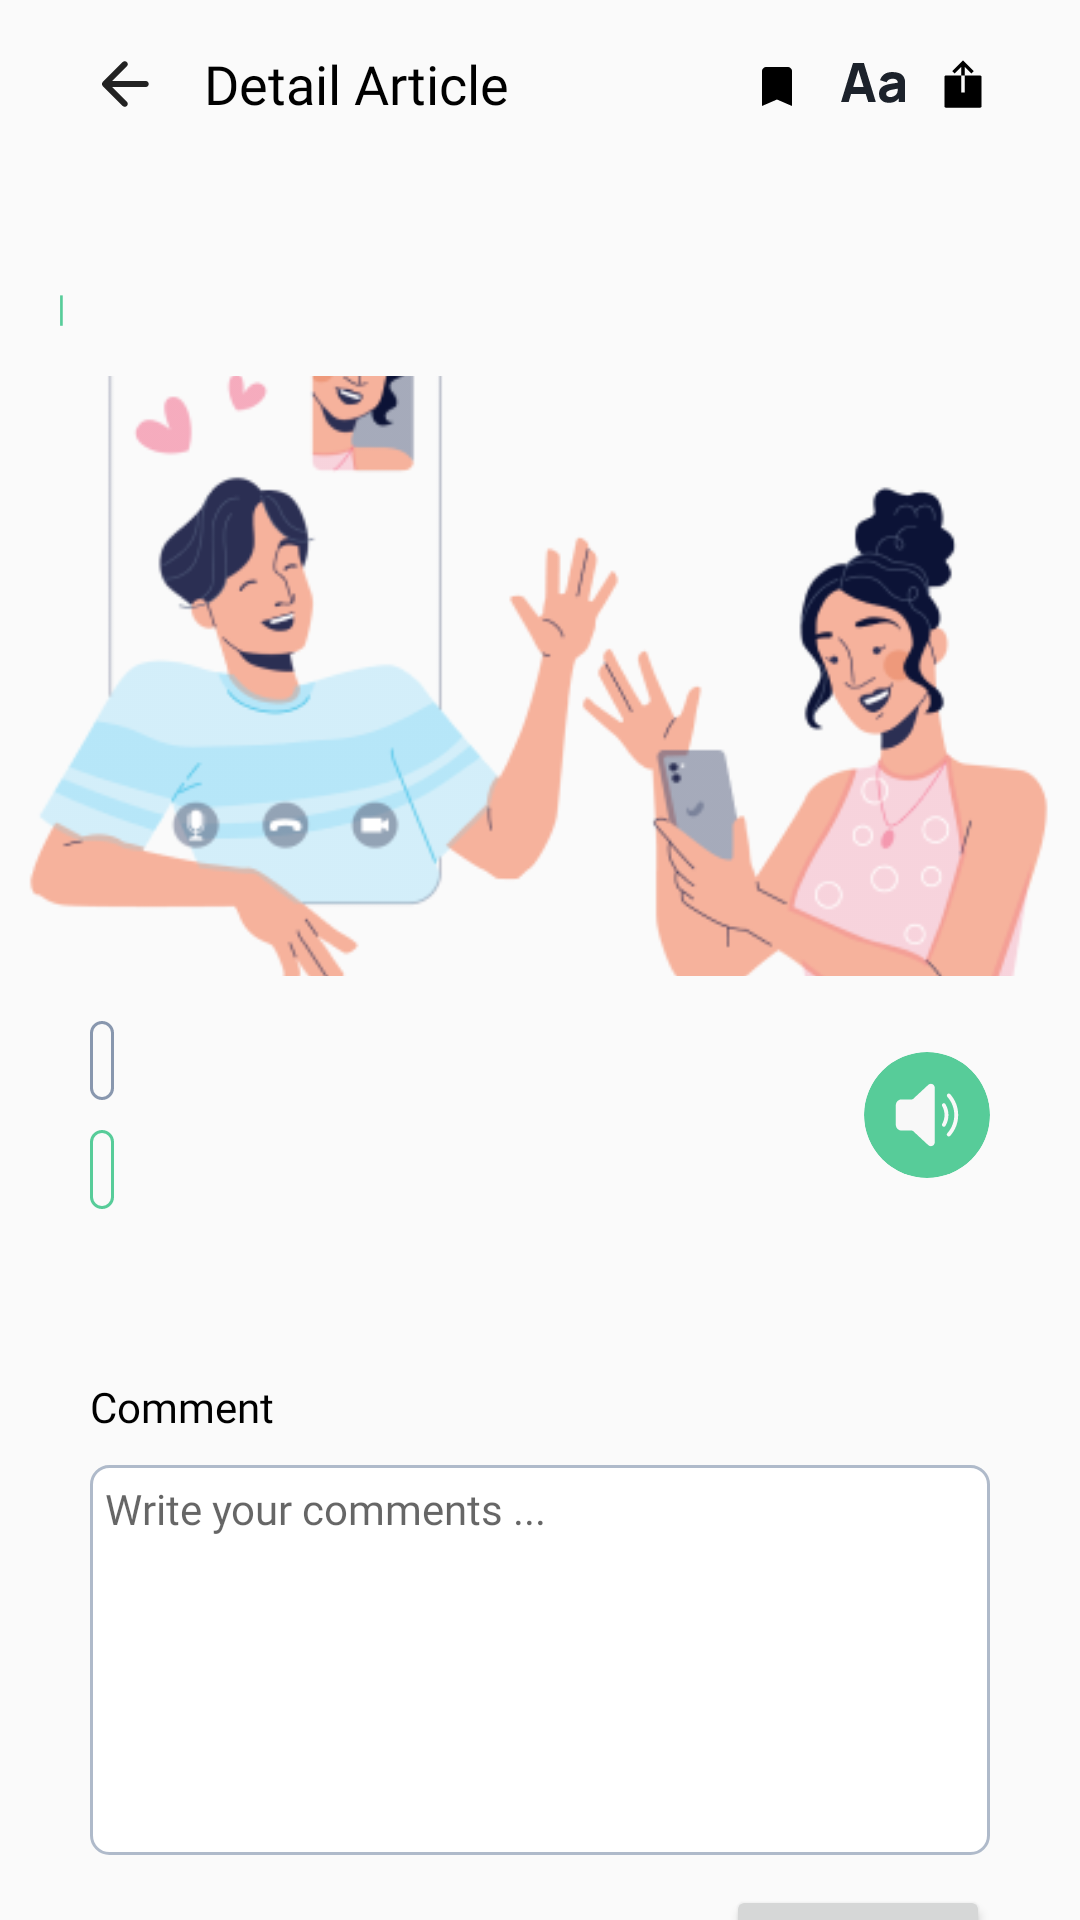

Icon click points for this 1080×1920 phone screenshot, format point (x, y):
arrow left: point (125, 84)
bookmark: point (777, 86)
share: point (963, 84)
speaker: point (927, 1115)
